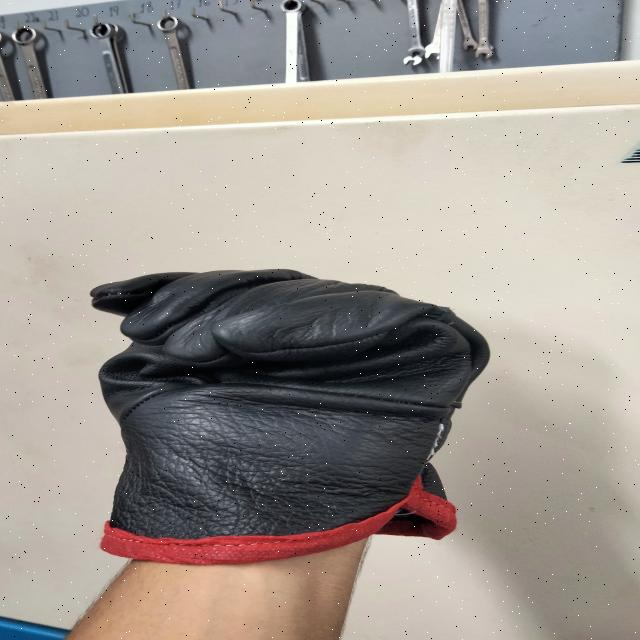Gloves: (71, 256, 510, 554)
